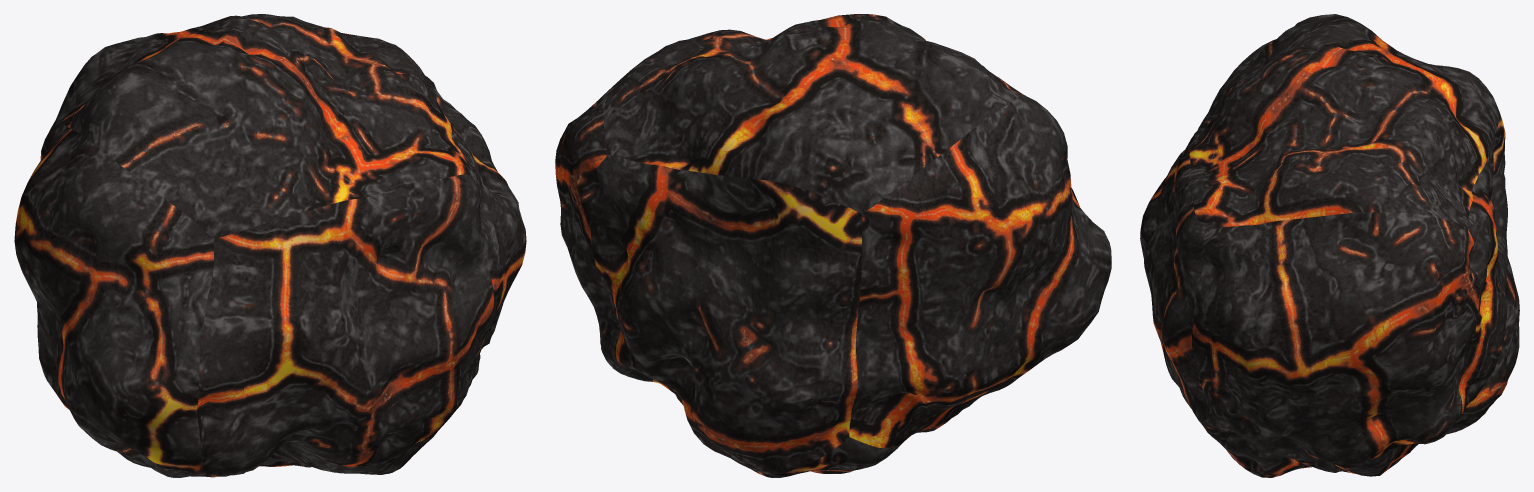
Rendered from meteoro.fbx.
3 views of the same model, side by side, from view 1: azimuth 30°, elevation 25°; view 2: azimuth 150°, elevation 25°; view 3: azimuth 270°, elevation 25° (orthographic). The views are drawn at different scales.
Parts seen in each view (by area): view 1: meteor_HP_Cube; view 2: meteor_HP_Cube; view 3: meteor_HP_Cube.
Part boxes in pixels (left/top/right/bottom): meteor_HP_Cube: left=14, top=14, right=526, bottom=477; meteor_HP_Cube: left=555, top=14, right=1111, bottom=477; meteor_HP_Cube: left=1140, top=14, right=1519, bottom=477.
Bounding box in the file's own units: 183 × 164 × 145.
Materials: 1 (1 with a texture image).
